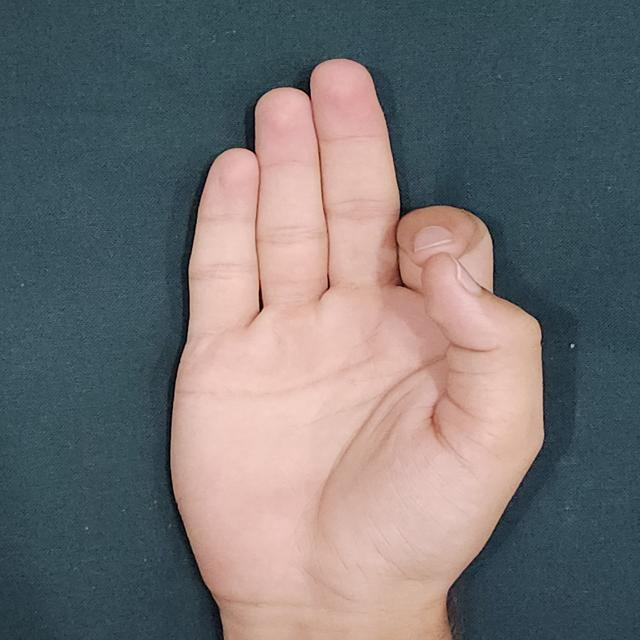ث: (157, 55, 556, 623)
